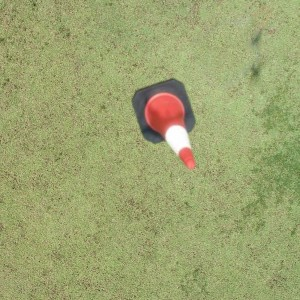traffic cone: (131, 78, 197, 169)
